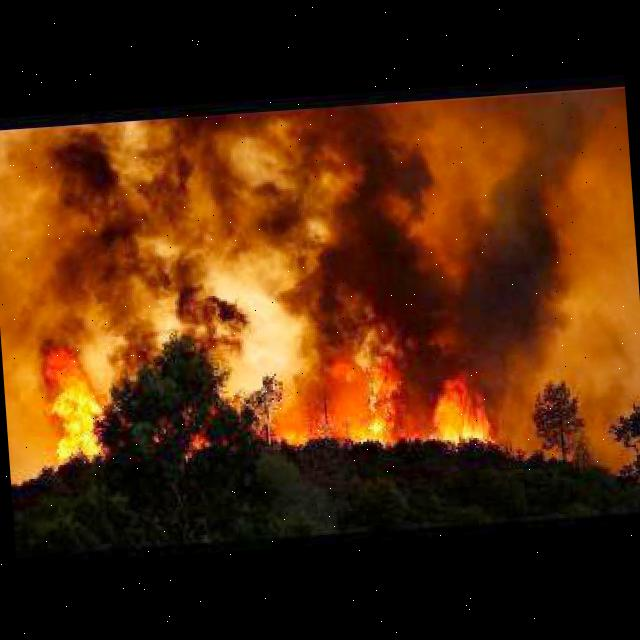fire: (32, 297, 507, 473)
